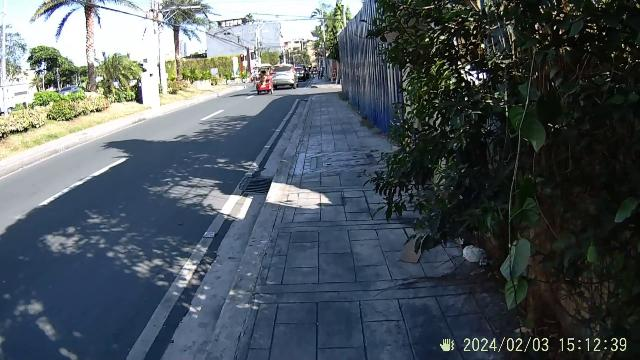tree: (492, 5, 640, 328)
